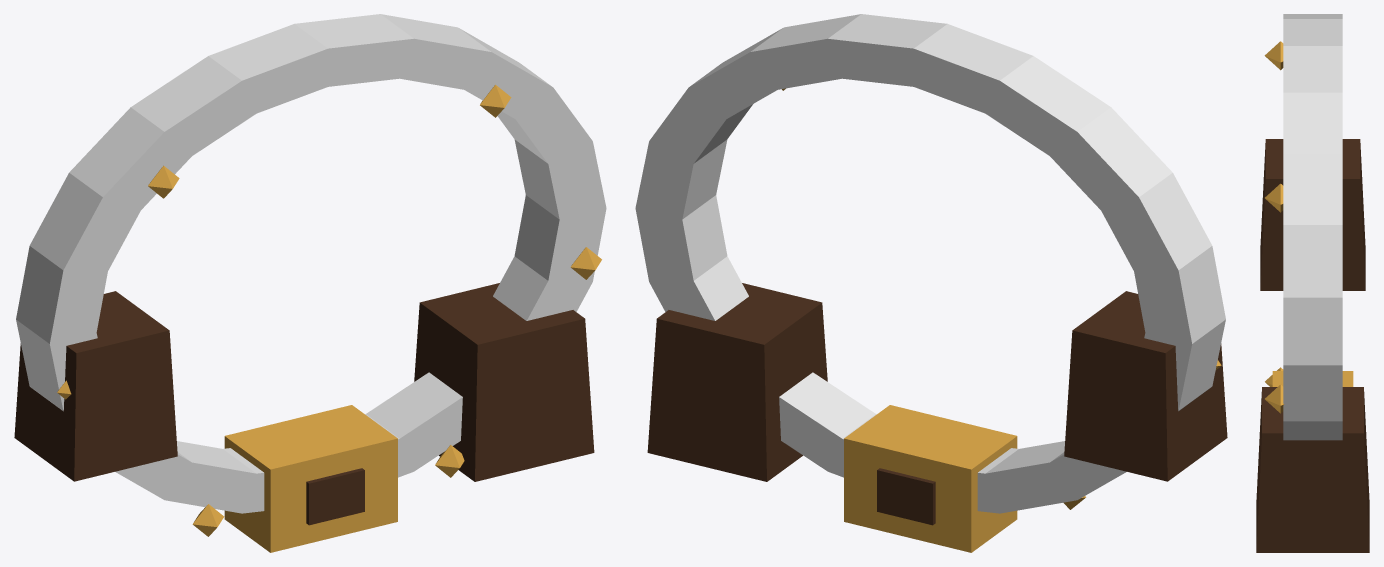
The model's file is jewel_belt.glb.
3 renders of one model, left to right at view 1: azimuth 30°, elevation 25°; view 2: azimuth 150°, elevation 25°; view 3: azimuth 270°, elevation 25°, orthographic. The views are drawn at different scales.
Parts seen in each view (by area): view 1: jewel_belt; view 2: jewel_belt; view 3: jewel_belt.
Boxes of the visible parts, x1=… form: jewel_belt: x1=14, y1=14, x2=606, y2=552; jewel_belt: x1=635, y1=14, x2=1227, y2=552; jewel_belt: x1=1256, y1=14, x2=1369, y2=552.
Size of the model in its own units: 0.3494 by 0.2905 by 0.07.
